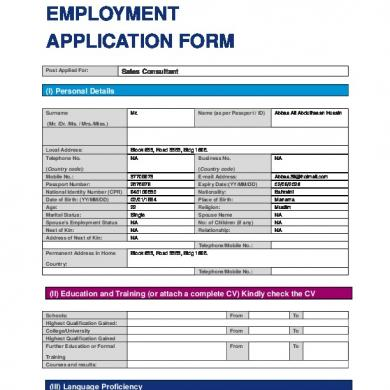table: (42, 109, 349, 275), (42, 312, 348, 369)
